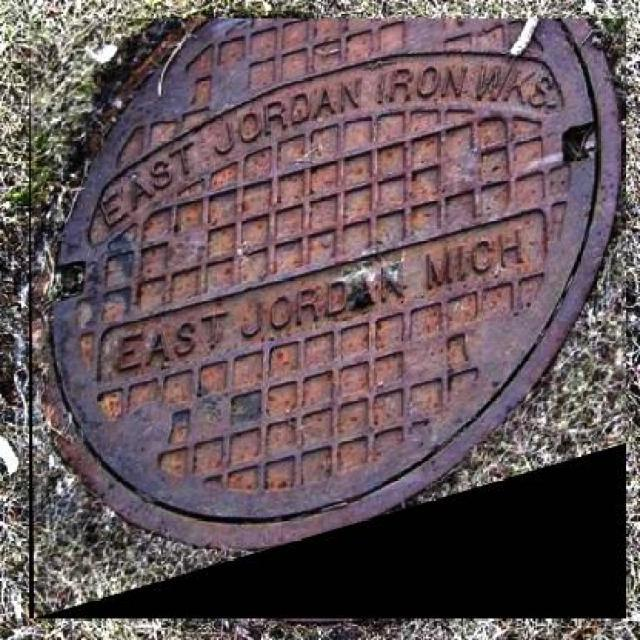Manhole: (29, 19, 626, 618)
